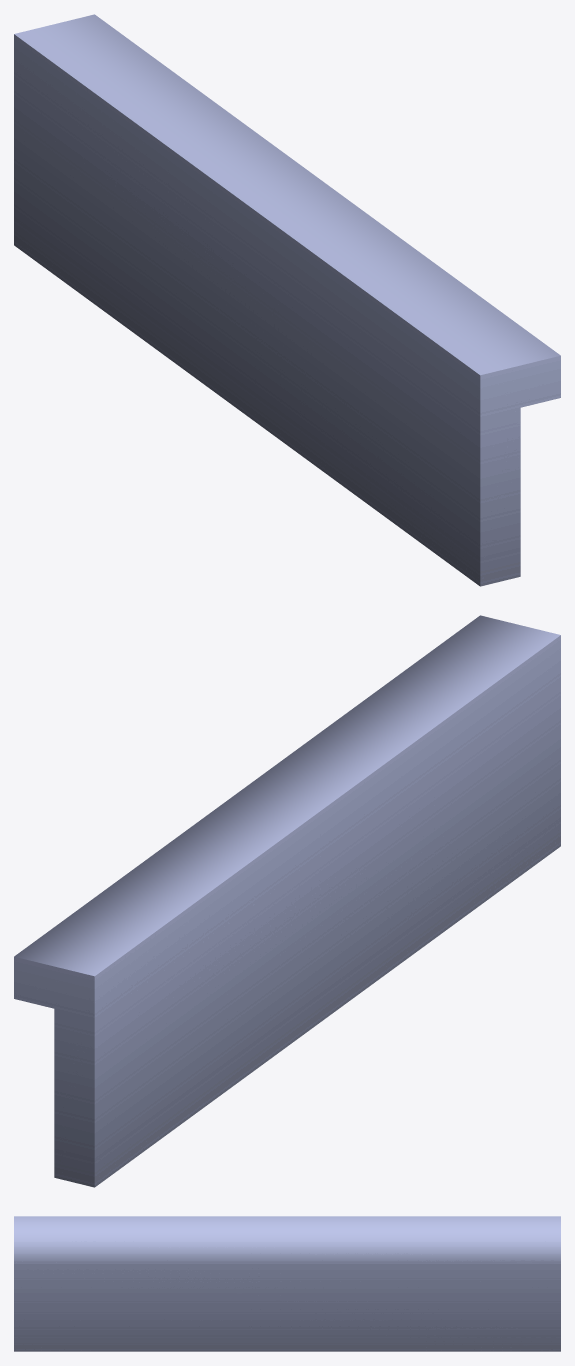
Rendered from border-high.glb.
3 renders of one model, top to bottom at view 1: azimuth 30°, elevation 25°; view 2: azimuth 150°, elevation 25°; view 3: azimuth 270°, elevation 25°, orthographic. The views are drawn at different scales.
Visible parts, largest first — view 1: border-high; view 2: border-high; view 3: border-high.
Boxes of the visible parts, <box> form: border-high: <box>14,14,560,586</box>; border-high: <box>14,615,560,1187</box>; border-high: <box>14,1216,560,1351</box>.
Size of the model in its own units: 0.2 by 0.5 by 2.
Materials: 1 (1 with a texture image).
